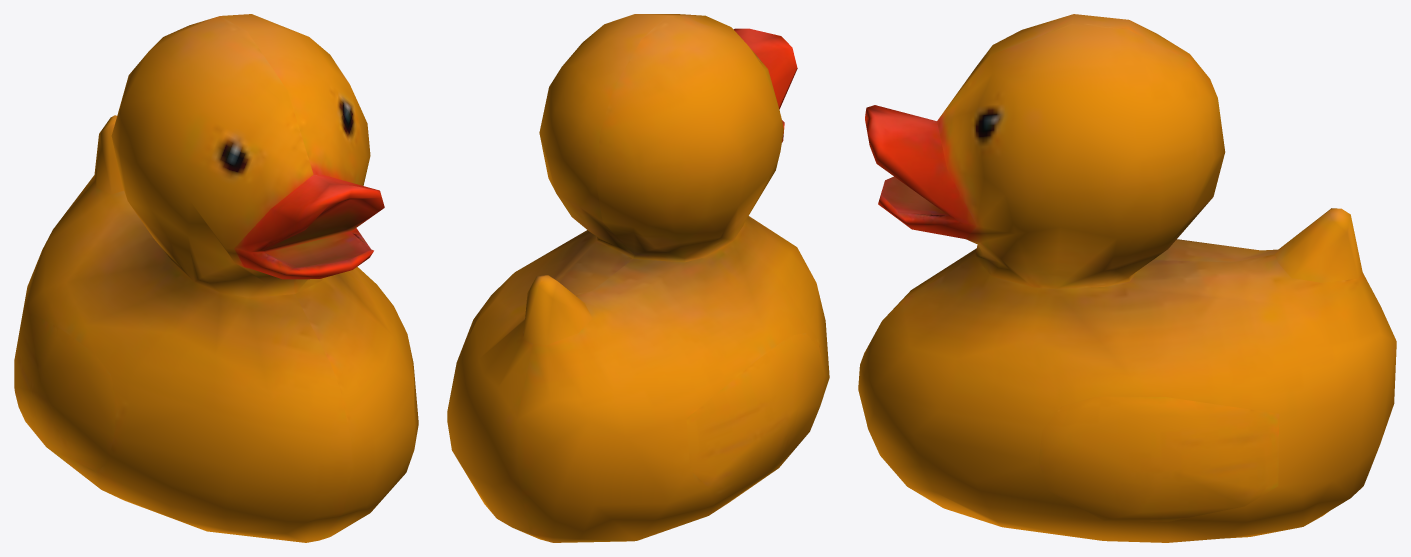
File: duck.glb
The picture shows the model from 3 angles, left to right: view 1: azimuth 30°, elevation 25°; view 2: azimuth 150°, elevation 25°; view 3: azimuth 270°, elevation 25°; orthographic projection. The views are drawn at different scales.
Parts seen in each view (by area): view 1: duck; view 2: duck; view 3: duck.
Part boxes in pixels (bbox=[...]): duck: bbox=[14, 14, 418, 542]; duck: bbox=[447, 14, 829, 542]; duck: bbox=[858, 14, 1396, 542].
Bounding box in the file's own units: 0.2135 × 0.2847 × 0.2987.
Materials: 1 (1 with a texture image).
